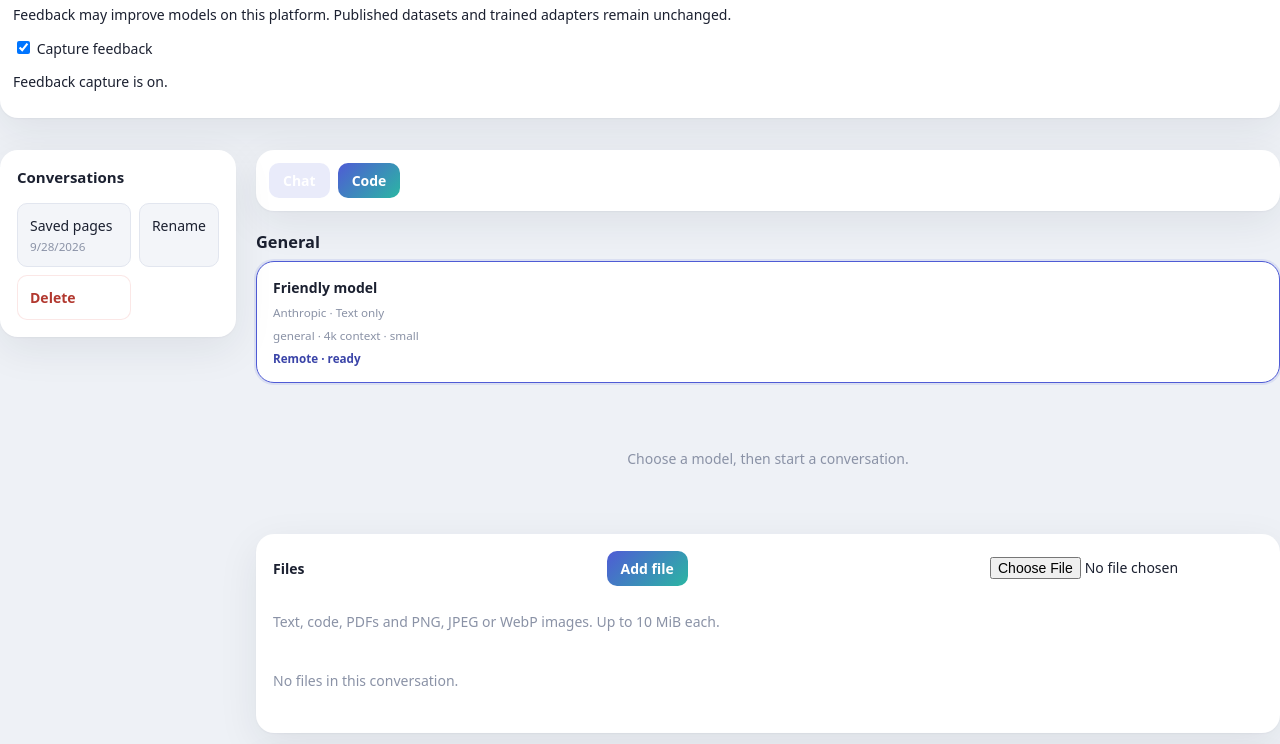
Scenario: restores saved PDF pages for image-capable model=true only after owner detail confirms them
What coordinates should you click on to do the following:
click the button "Saved pages 9/28/2026"
I would click on:
 (74, 235)
Its box is [17, 203, 131, 267].
(page scrolled)
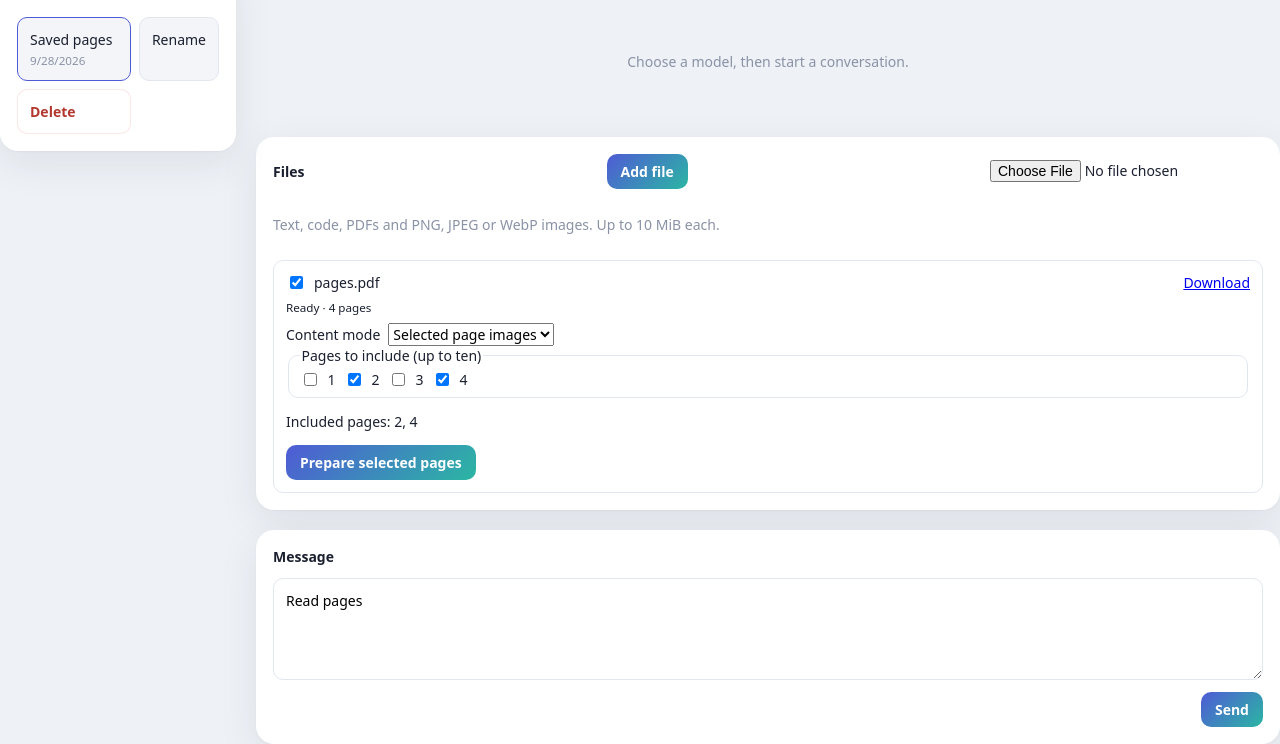
Now the checkbox labelled "pages.pdf" is checked, box [290, 276, 303, 289]
Now the text box labelled "Message" holds "Read pages", box [273, 578, 1263, 680]
Now the dropdown named "Content mode for pages.pdf" shows "Selected page images", box [388, 323, 554, 346]
